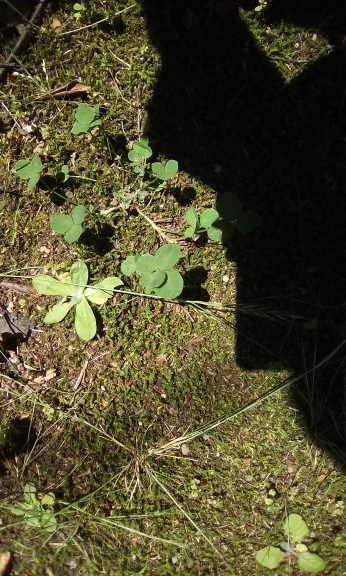4leaf: (135, 242, 184, 300)
